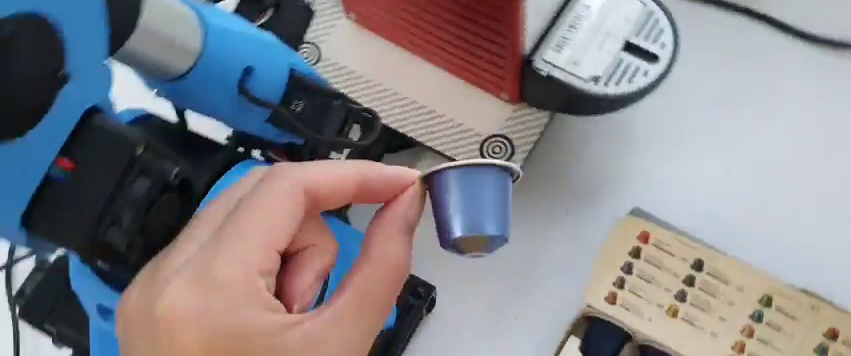capsule_7: (417, 154, 525, 259)
